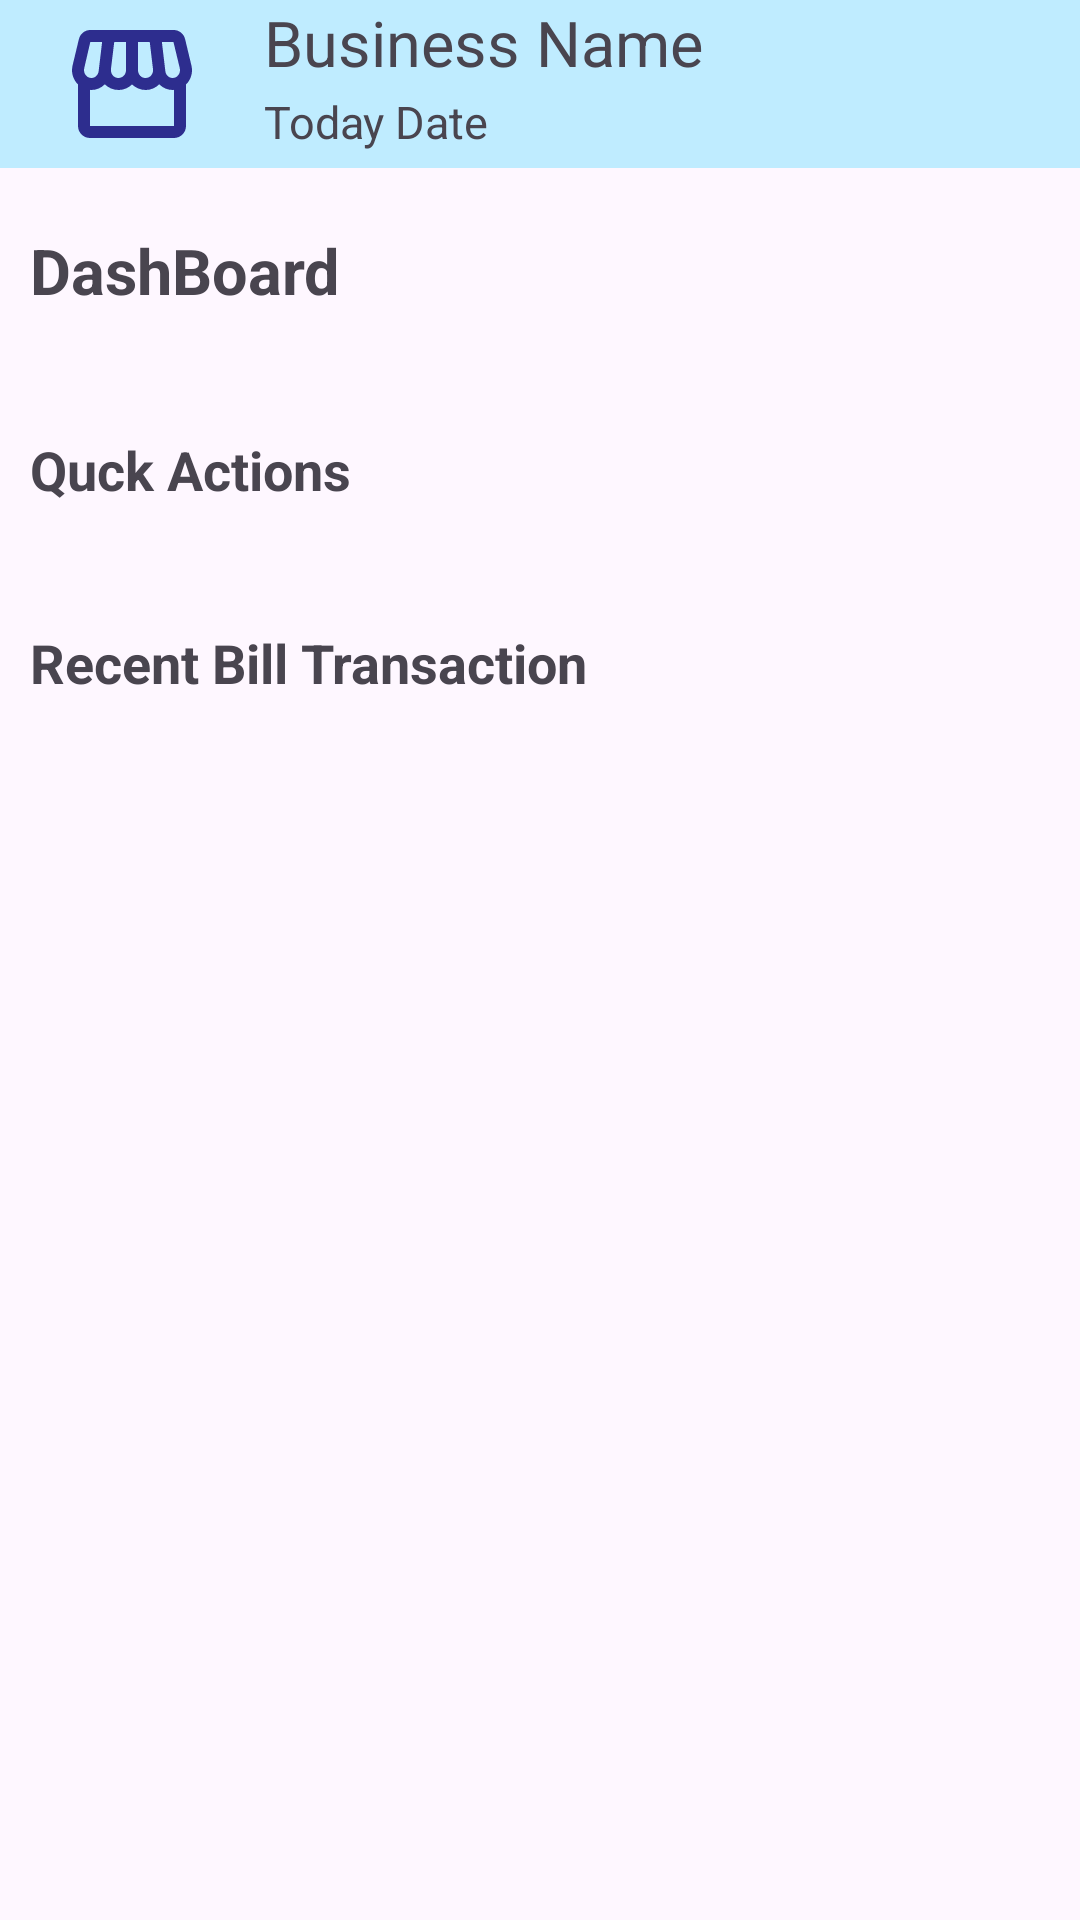

Named icons in this screenshot (1080 x 1920) and their bounding boxes, (x1=x1, y1=y1, x2=x2, y2=y2):
storefront: (x1=72, y1=30, x2=192, y2=138)
